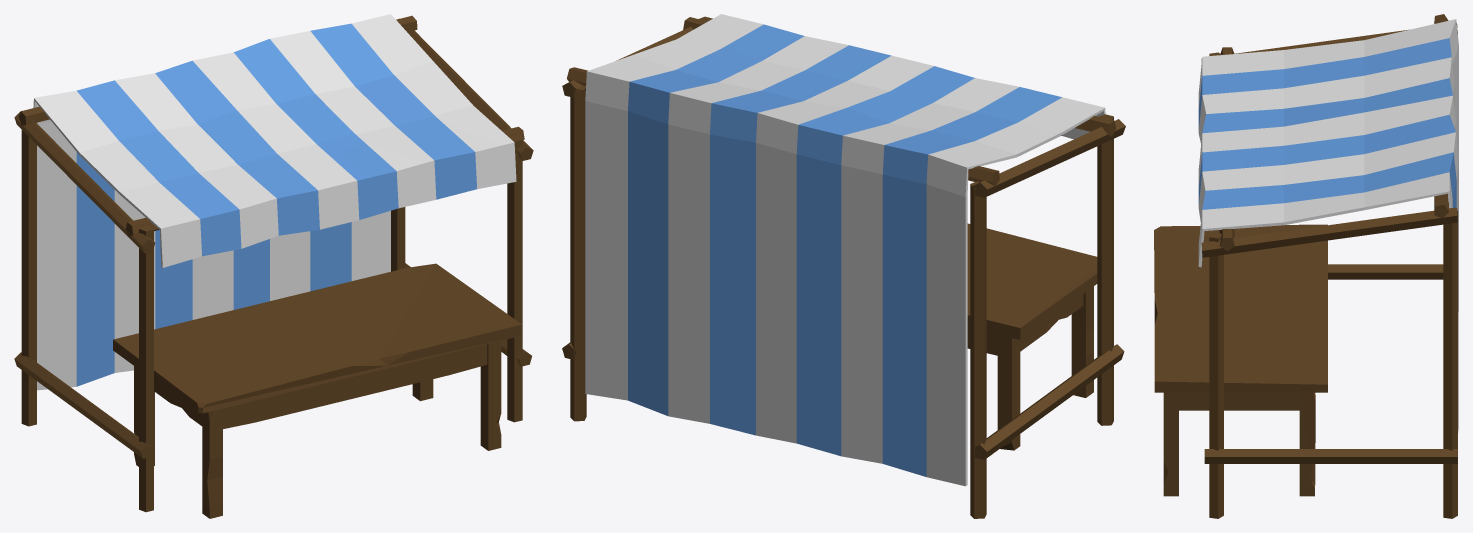
File: market.fbx
3 views of the same model, side by side, from view 1: azimuth 30°, elevation 25°; view 2: azimuth 150°, elevation 25°; view 3: azimuth 270°, elevation 25° (orthographic). The views are drawn at different scales.
Parts seen in each view (by area): view 1: Market; view 2: Market; view 3: Market.
Boxes of the visible parts, x1,y1,x2,y2 form: Market: [14, 14, 533, 518]; Market: [562, 14, 1125, 518]; Market: [1154, 14, 1458, 518].
Size of the model in its own units: 760 by 599 by 513.
